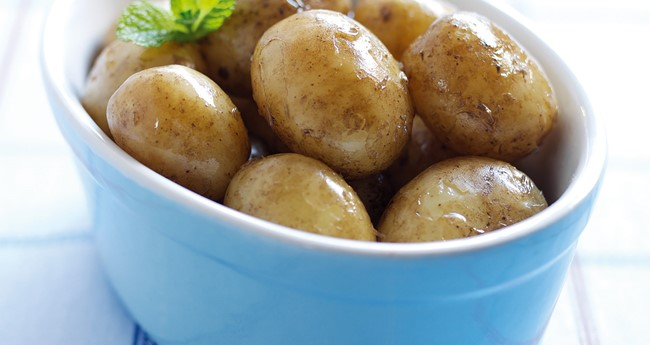boiled potatoes: (239, 19, 409, 156), (412, 21, 552, 149), (105, 78, 245, 174), (235, 150, 374, 243), (387, 163, 549, 237)
